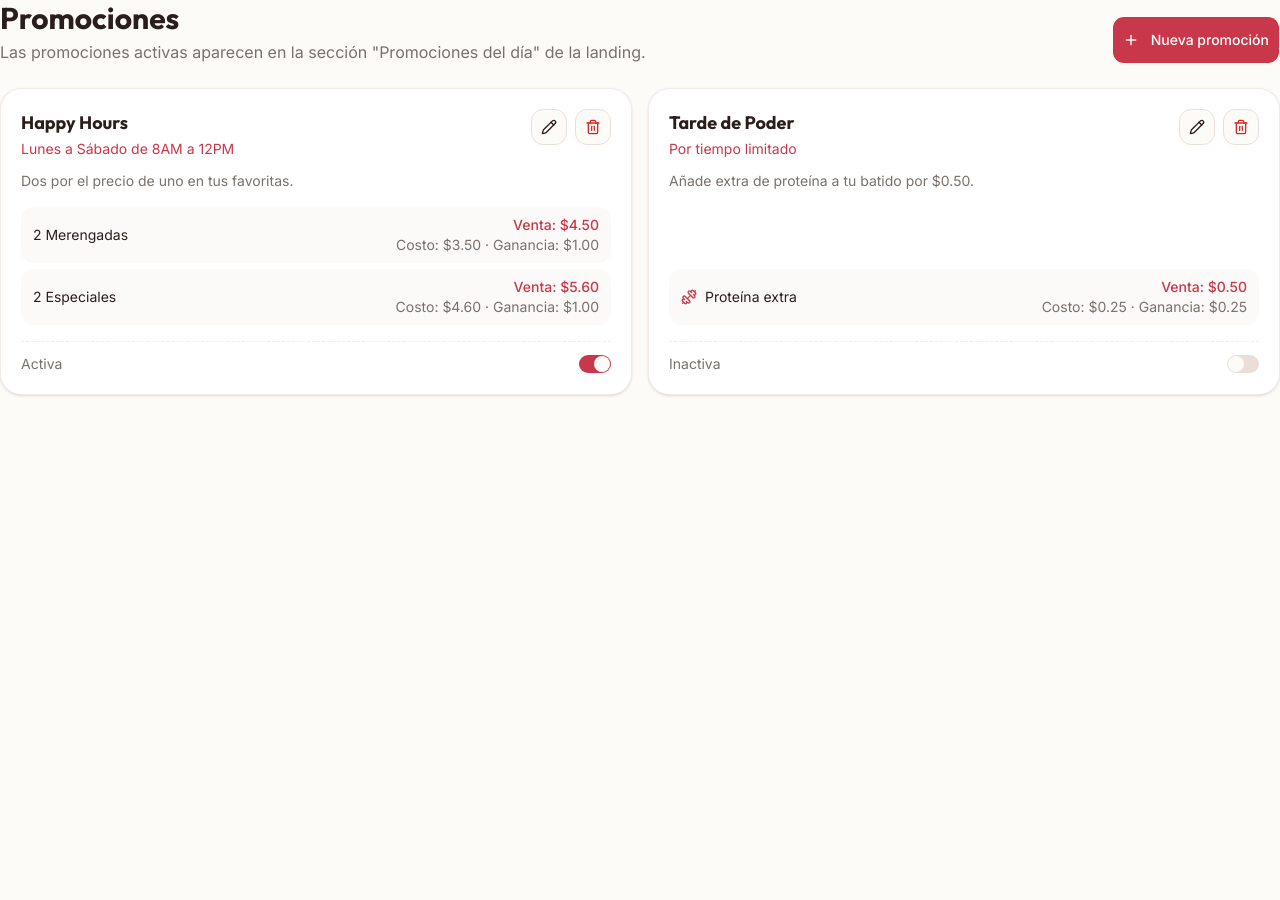
Test: PaginaPromociones › agrega una oferta adicional en el formulario
Check: the heading "Happy Hours" is shown, box [21, 111, 128, 134]
Click the button "Nueva promoción": (1196, 40) [1112, 16, 1279, 64]
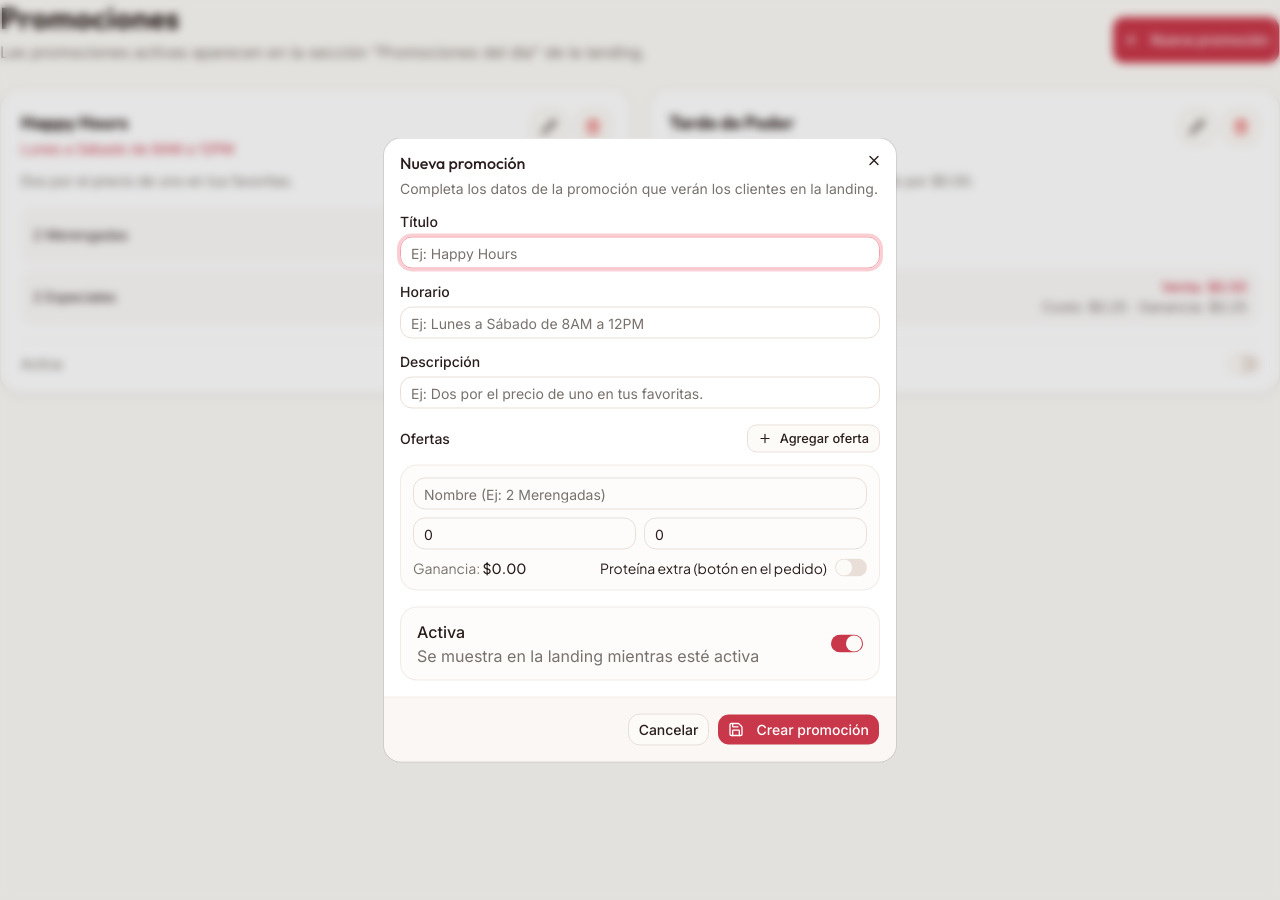
Click the button "Agregar oferta": (813, 438) [747, 424, 880, 452]
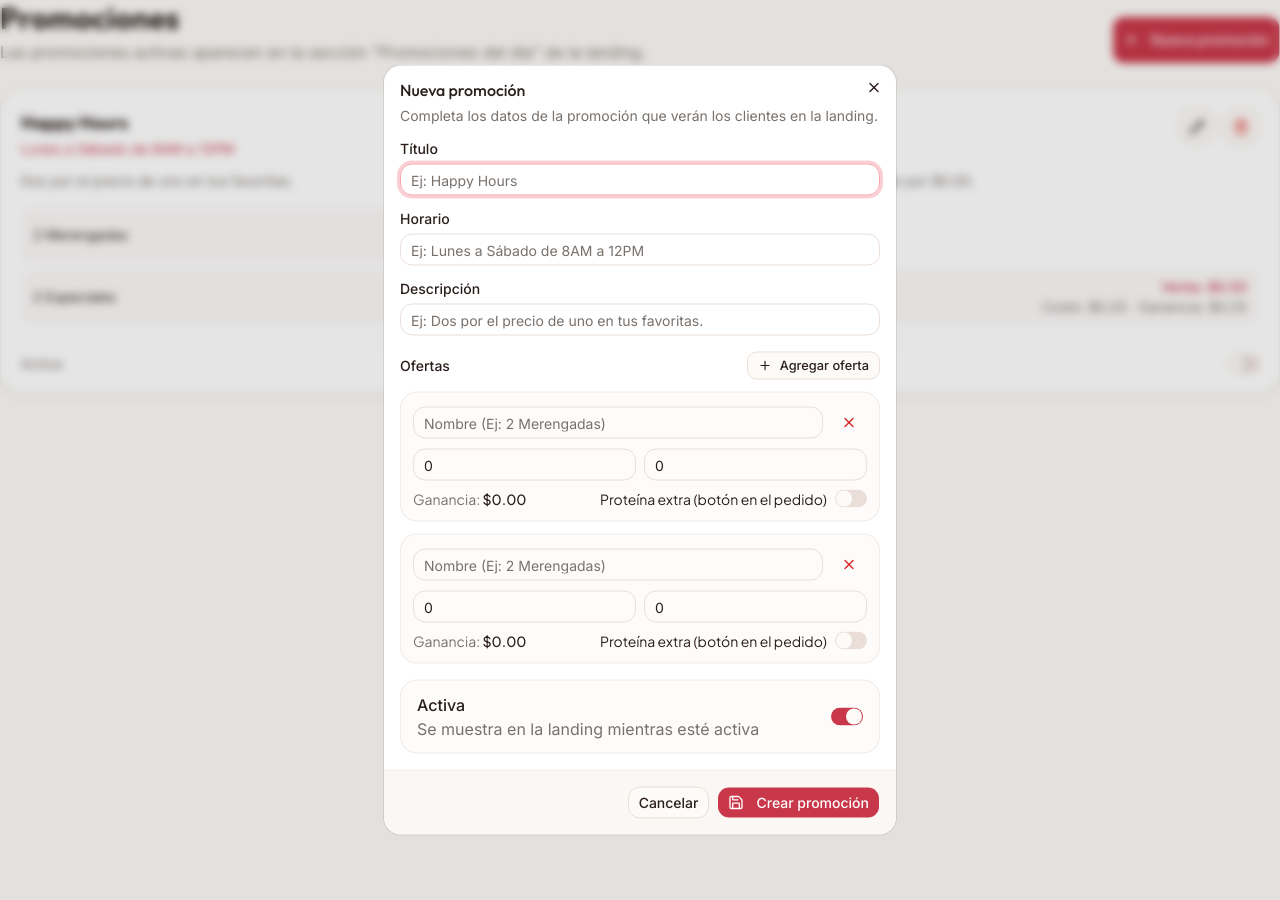
Check: the field named "Nombre de la oferta 2" is shown, box [413, 548, 823, 580]
